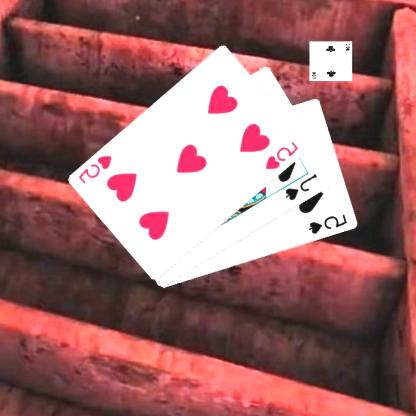5H: (264, 138, 302, 171), (78, 152, 116, 185)
5S: (308, 212, 351, 236)
JS: (284, 171, 321, 202)
